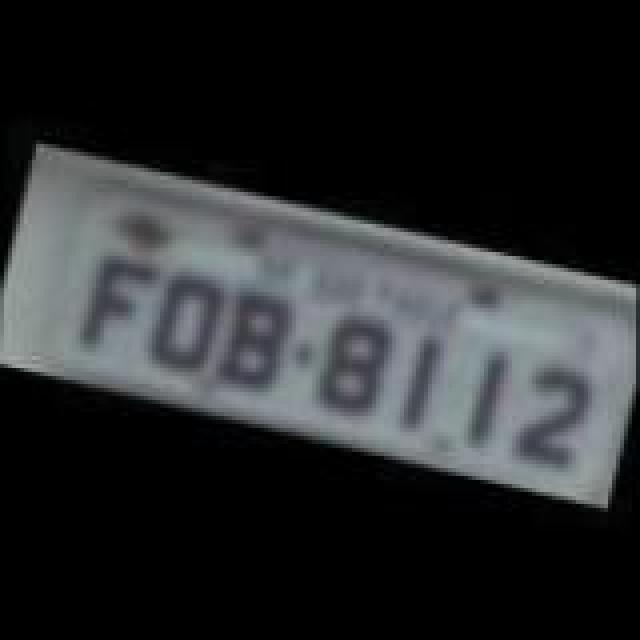1: (388, 322, 452, 434), (454, 336, 514, 448)
2: (498, 358, 594, 474)
8: (306, 306, 390, 422)
B: (214, 286, 294, 394)
F: (72, 238, 164, 358)
O: (142, 262, 222, 374)
